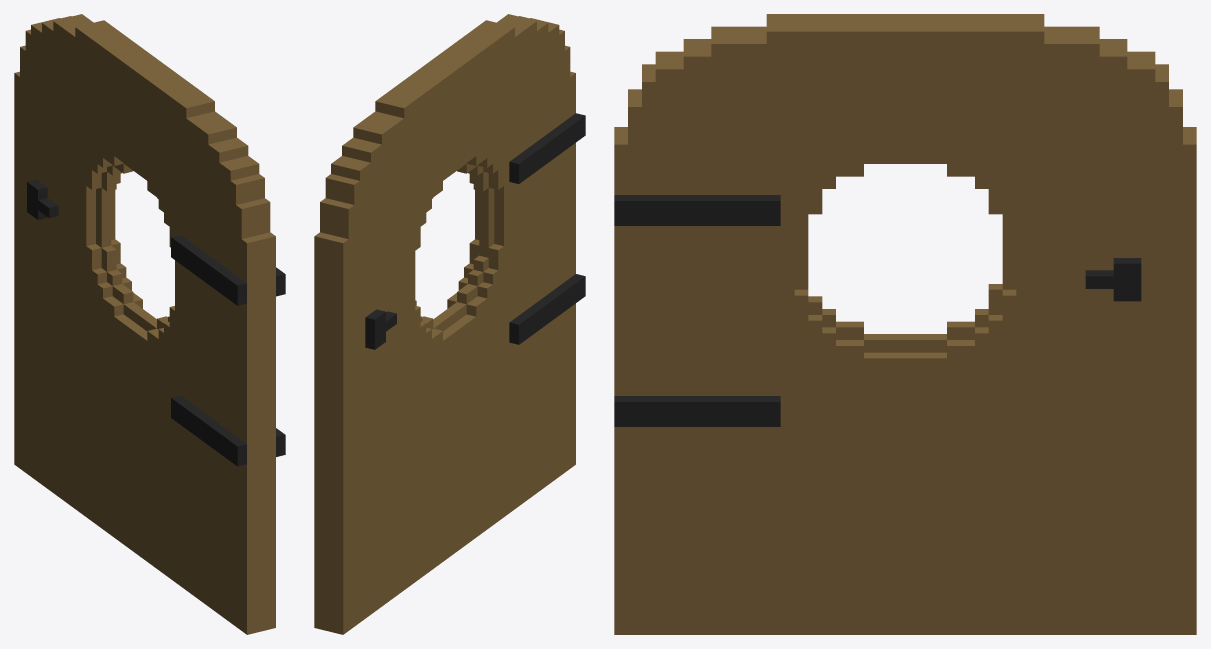
File: TileDoor.obj
3 views of the same model, side by side, from view 1: azimuth 30°, elevation 25°; view 2: azimuth 150°, elevation 25°; view 3: azimuth 270°, elevation 25° (orthographic). The views are drawn at different scales.
Bounding box in the file's own units: 0.5 × 4.8 × 4.2.
Materials: 1 (1 with a texture image).
